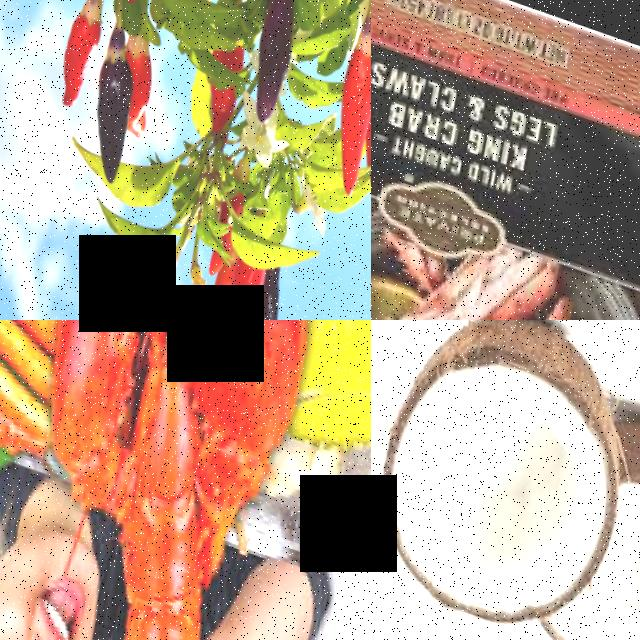chilli: (296, 0, 371, 195), (34, 0, 117, 119), (164, 239, 268, 320), (333, 48, 371, 198)
coconut: (371, 320, 640, 640), (556, 401, 640, 640)
crab: (371, 214, 601, 320)
